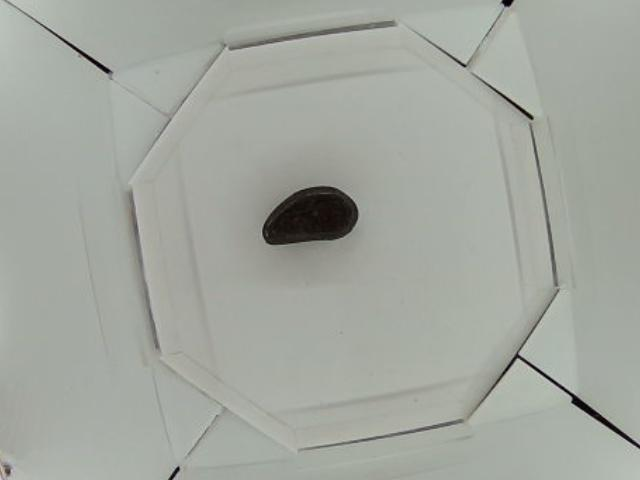Pebble: (261, 187, 359, 245)
